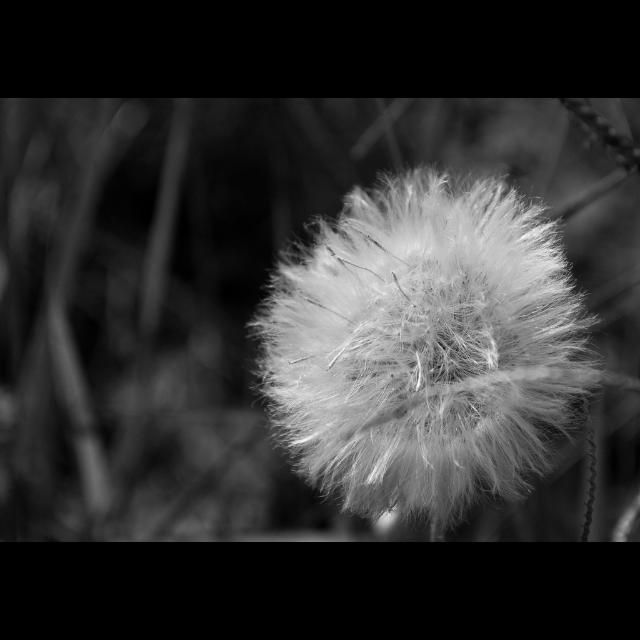Flower: (250, 155, 614, 533)
